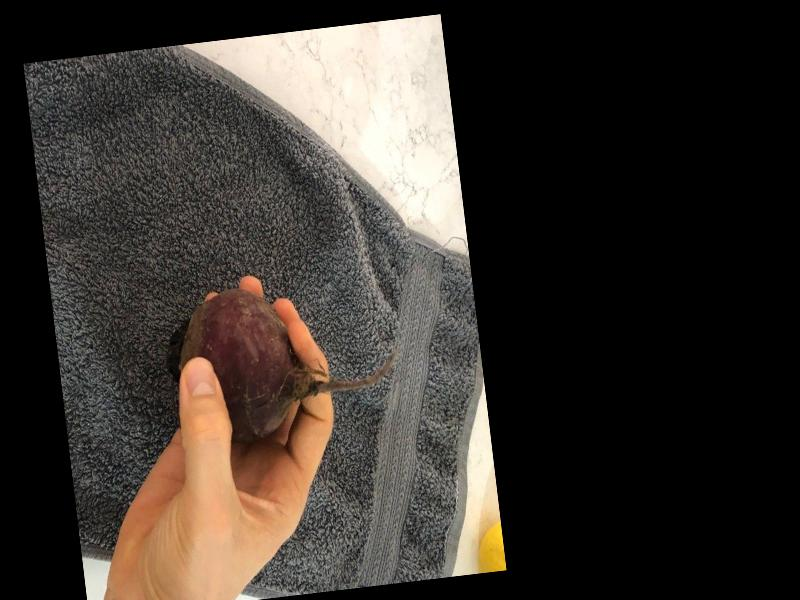Beet: (159, 271, 404, 450)
